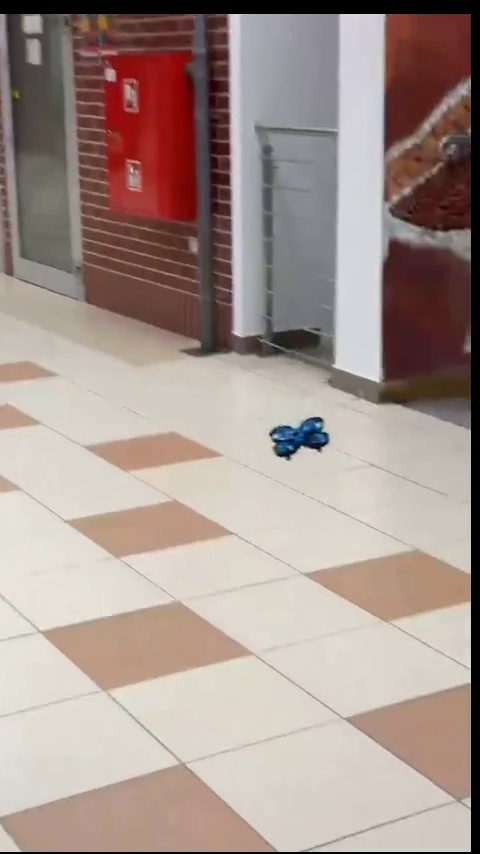drone: (270, 420, 331, 454)
